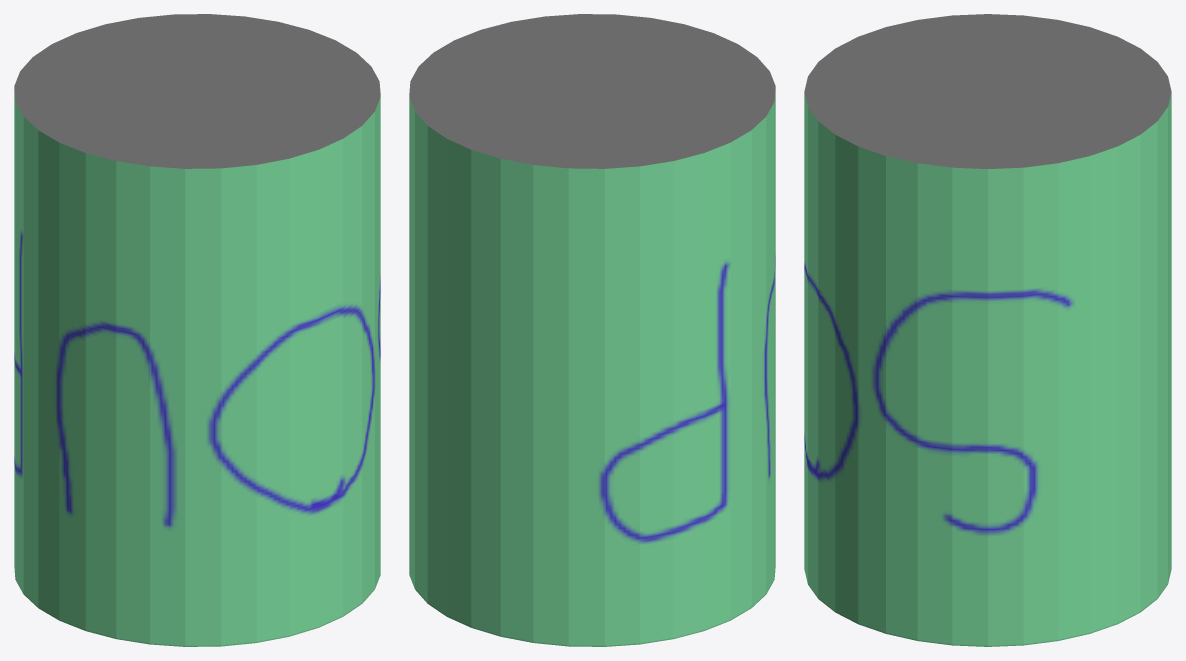
File: can.gltf
3 views of the same model, side by side, from view 1: azimuth 30°, elevation 25°; view 2: azimuth 150°, elevation 25°; view 3: azimuth 270°, elevation 25° (orthographic).
Parts seen in each view (by area): view 1: Cylinder; view 2: Cylinder; view 3: Cylinder.
Boxes of the visible parts, x1,y1,x2,y2 form: Cylinder: (14,14,380,646); Cylinder: (409,14,775,646); Cylinder: (804,14,1171,646).
Size of the model in its own units: 0.1391 by 0.1997 by 0.1391.
2 materials, 1 textured.
